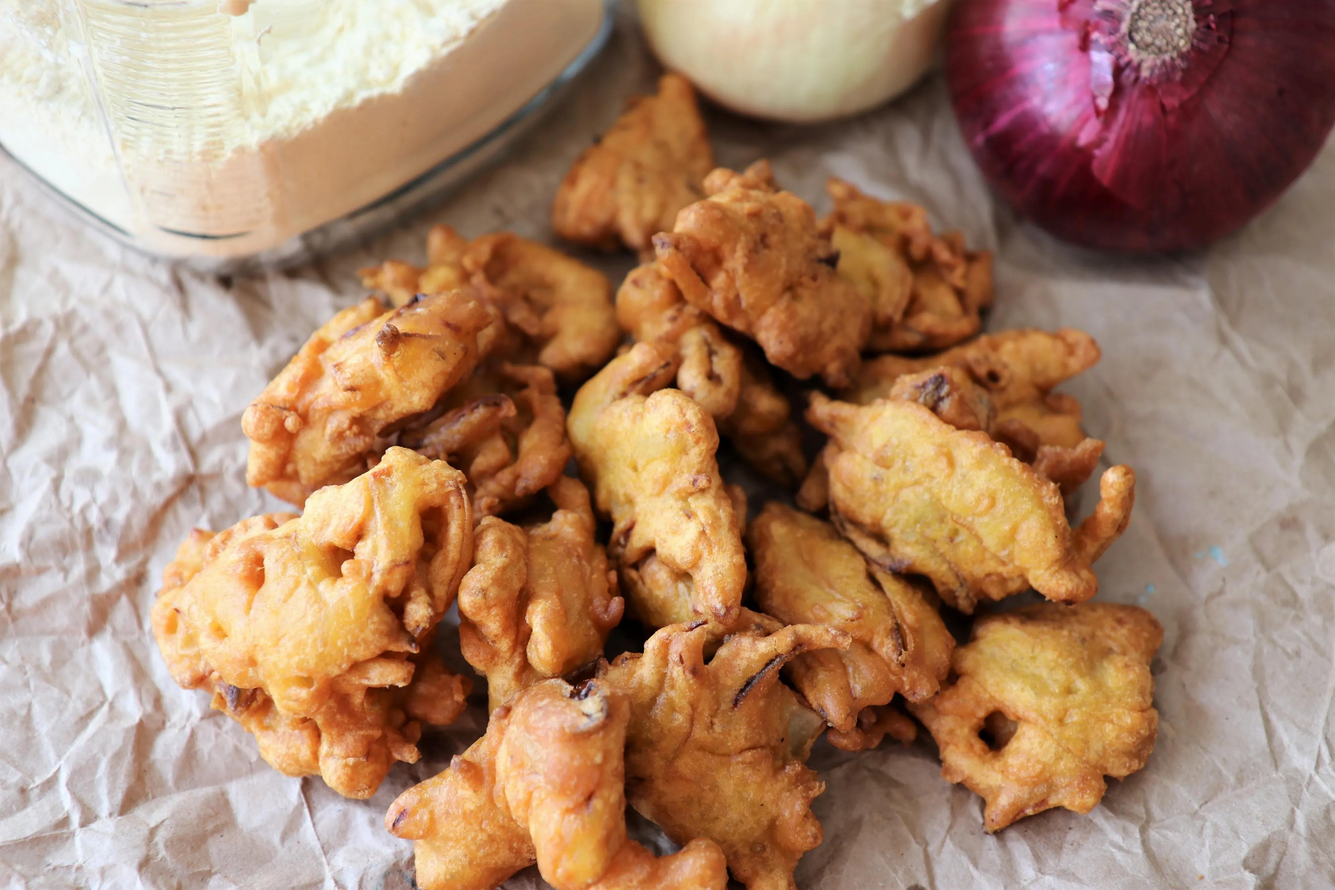OnionPakoda: (156, 69, 1161, 890)
